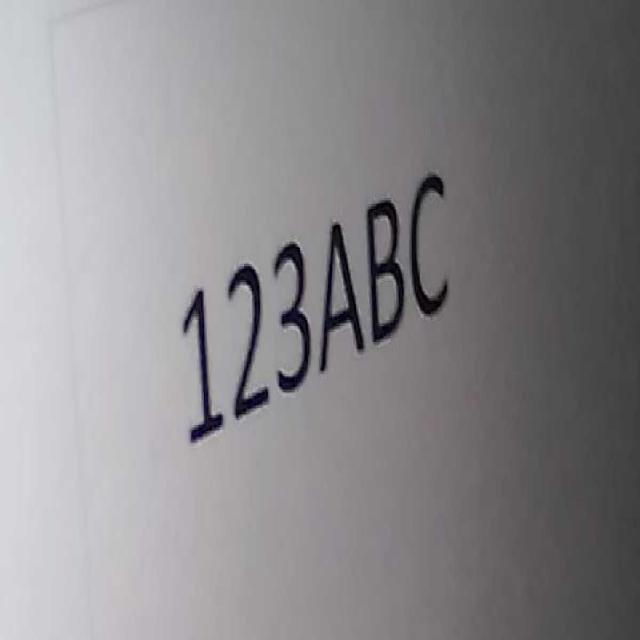license_plate: (166, 147, 454, 472)
